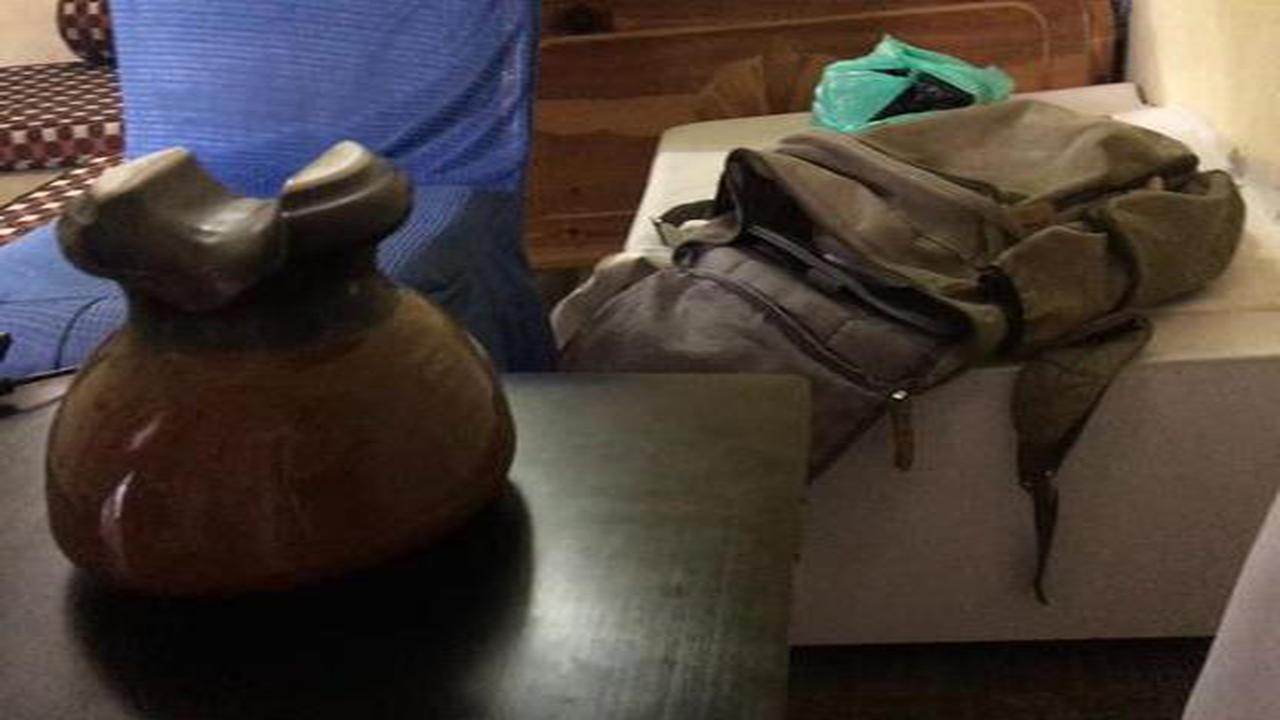insulator_pin: (34, 137, 536, 627)
